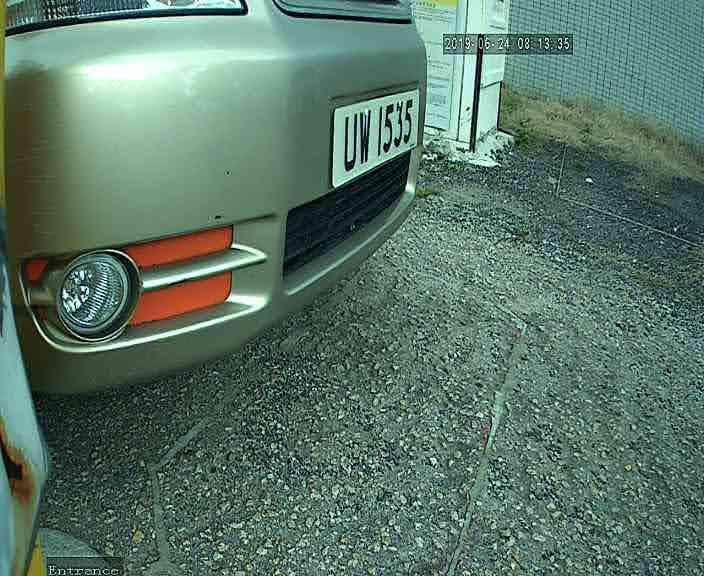privatecar: (3, 2, 445, 390)
